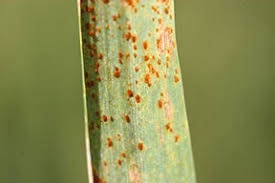Leaf Rust: (82, 13, 181, 152)
